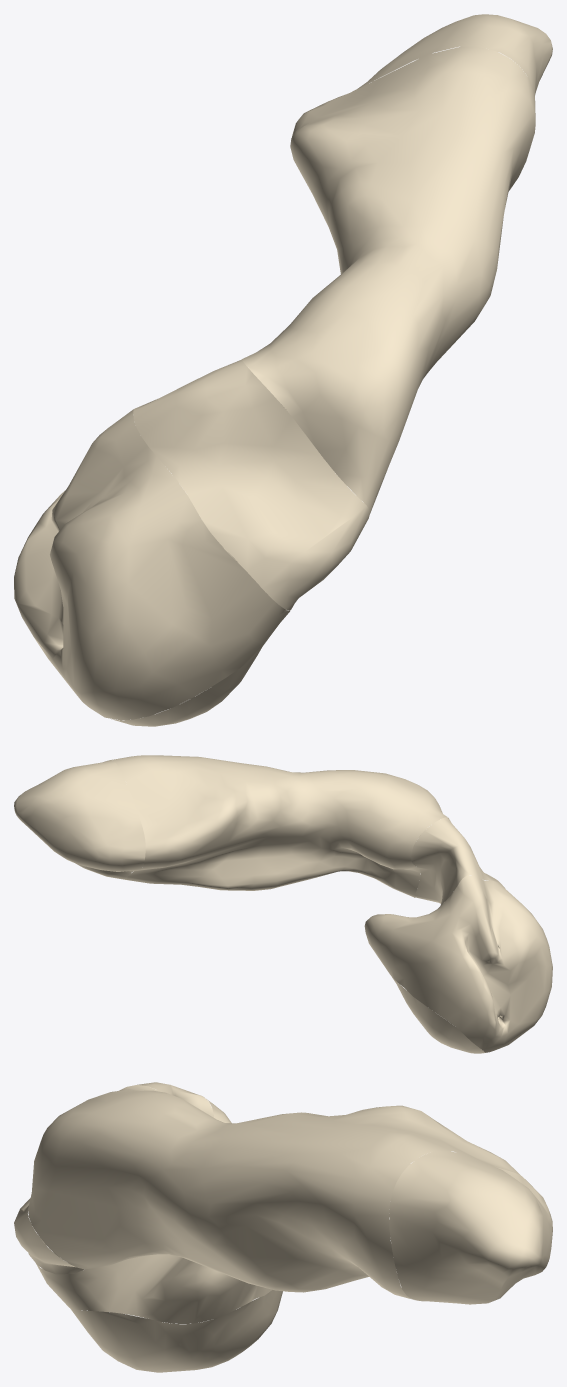
File: vh_m_pancreas-20.glb
3 renders of one model, top to bottom at view 1: azimuth 30°, elevation 25°; view 2: azimuth 150°, elevation 25°; view 3: azimuth 270°, elevation 25°, orthographic. The views are drawn at different scales.
Visible parts, largest first — view 1: VH_M_body_of_pancreas, VH_M_head_of_pancreas, VH_M_neck_of_pancreas, VH_M_tail_of_pancreas, VH_M_uncinate_process_of_the_pancreas; view 2: VH_M_body_of_pancreas, VH_M_head_of_pancreas, VH_M_tail_of_pancreas, VH_M_neck_of_pancreas, VH_M_uncinate_process_of_the_pancreas; view 3: VH_M_body_of_pancreas, VH_M_tail_of_pancreas, VH_M_head_of_pancreas, VH_M_uncinate_process_of_the_pancreas, VH_M_neck_of_pancreas.
Boxes of the visible parts, x1,y1,x2,y2 form: VH_M_body_of_pancreas: (241,46,535,515); VH_M_head_of_pancreas: (14,409,290,720); VH_M_neck_of_pancreas: (133,360,369,610); VH_M_tail_of_pancreas: (333,14,552,99); VH_M_uncinate_process_of_the_pancreas: (111,648,261,726); VH_M_body_of_pancreas: (112,755,447,897); VH_M_head_of_pancreas: (364,875,552,1052); VH_M_tail_of_pancreas: (14,760,145,879); VH_M_neck_of_pancreas: (411,817,502,905); VH_M_uncinate_process_of_the_pancreas: (391,976,485,1053); VH_M_body_of_pancreas: (28,1085,520,1299); VH_M_tail_of_pancreas: (389,1151,552,1304); VH_M_head_of_pancreas: (36,1097,272,1323); VH_M_uncinate_process_of_the_pancreas: (70,1290,282,1372); VH_M_neck_of_pancreas: (14,1082,213,1274).
Bounding box in the file's own units: 0.1114 × 0.0721 × 0.0836.
